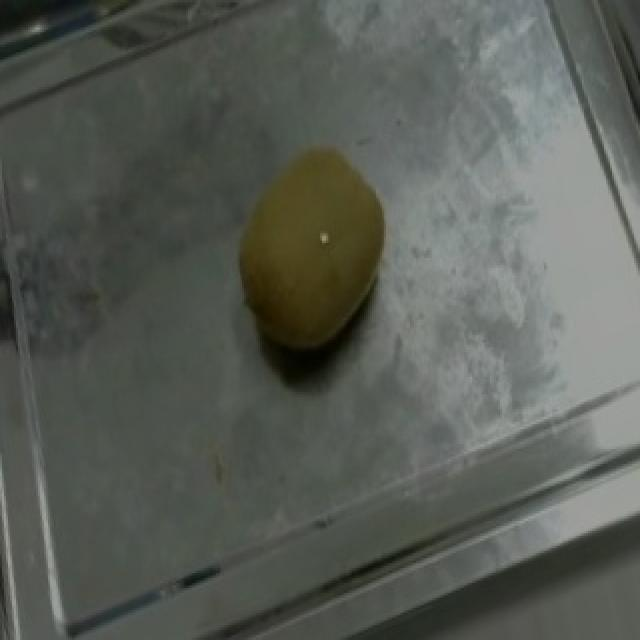Fruit: (204, 117, 422, 387)
